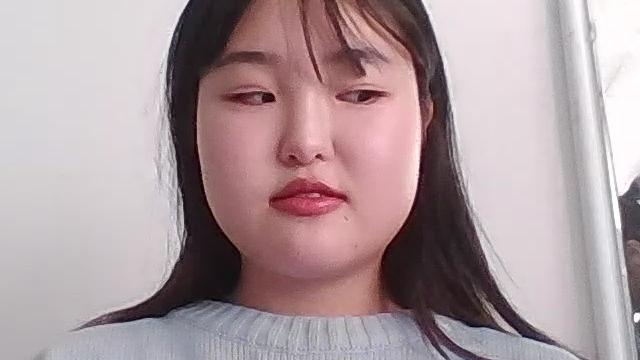eye: (263, 93, 278, 106), (358, 92, 372, 104)
iris: (235, 90, 276, 105), (336, 89, 375, 103)
